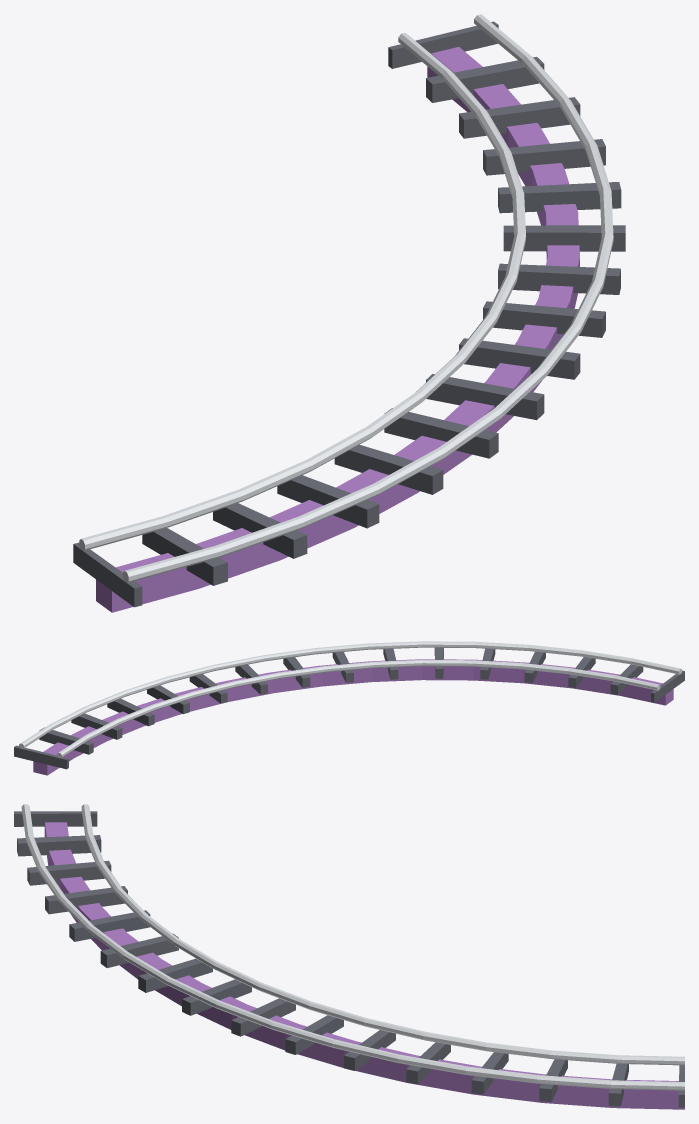
Rendered from theme-park-rides-and-coasters-theme-park-rides-and-coa-ad0d864b__28627.glb.
3 views of the same model, one above another, from view 1: azimuth 30°, elevation 25°; view 2: azimuth 150°, elevation 25°; view 3: azimuth 270°, elevation 25° (orthographic). The views are drawn at different scales.
Visible parts, largest first — view 1: theme-park-rides-and-coasters-track-curve-90-left; view 2: theme-park-rides-and-coasters-track-curve-90-left; view 3: theme-park-rides-and-coasters-track-curve-90-left.
Boxes of the visible parts, bbox=[...] form: theme-park-rides-and-coasters-track-curve-90-left: bbox=[73, 14, 625, 612]; theme-park-rides-and-coasters-track-curve-90-left: bbox=[14, 641, 684, 775]; theme-park-rides-and-coasters-track-curve-90-left: bbox=[14, 804, 684, 1109].
Size of the model in its own units: 8.53 by 0.4911 by 8.53.
